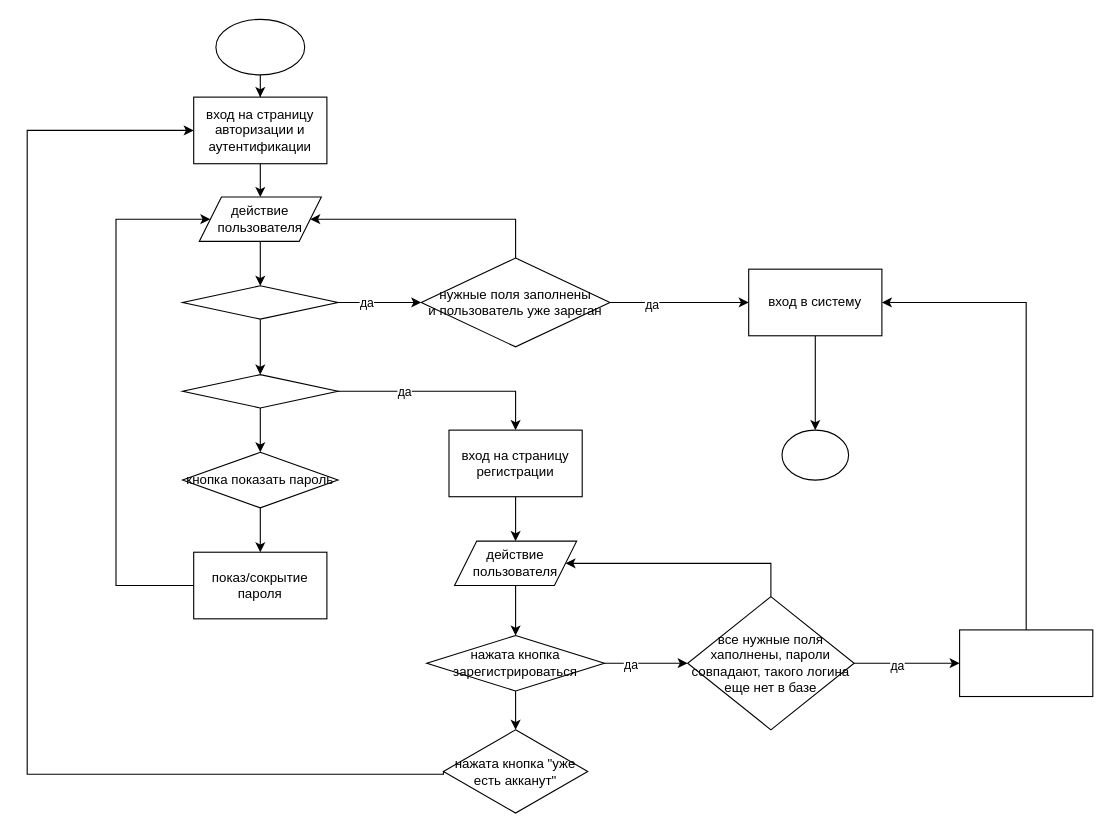
Some shapes in this 1112 by 833 pixel diagram are drawn without their labels. The shapes that lost their labels are listed below. From the top down, each one's centre as x and y in pixels, then its label:
point (260, 46): начало
point (259, 302): нажата кнопка войти
point (259, 391): кнопка регистрации
point (815, 454): конец
point (1025, 663): добавление пользователя в базу
